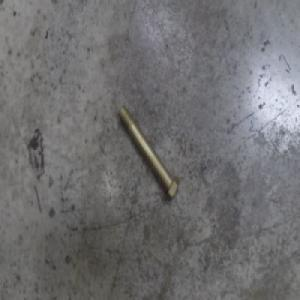Bolt: (117, 103, 180, 202)
